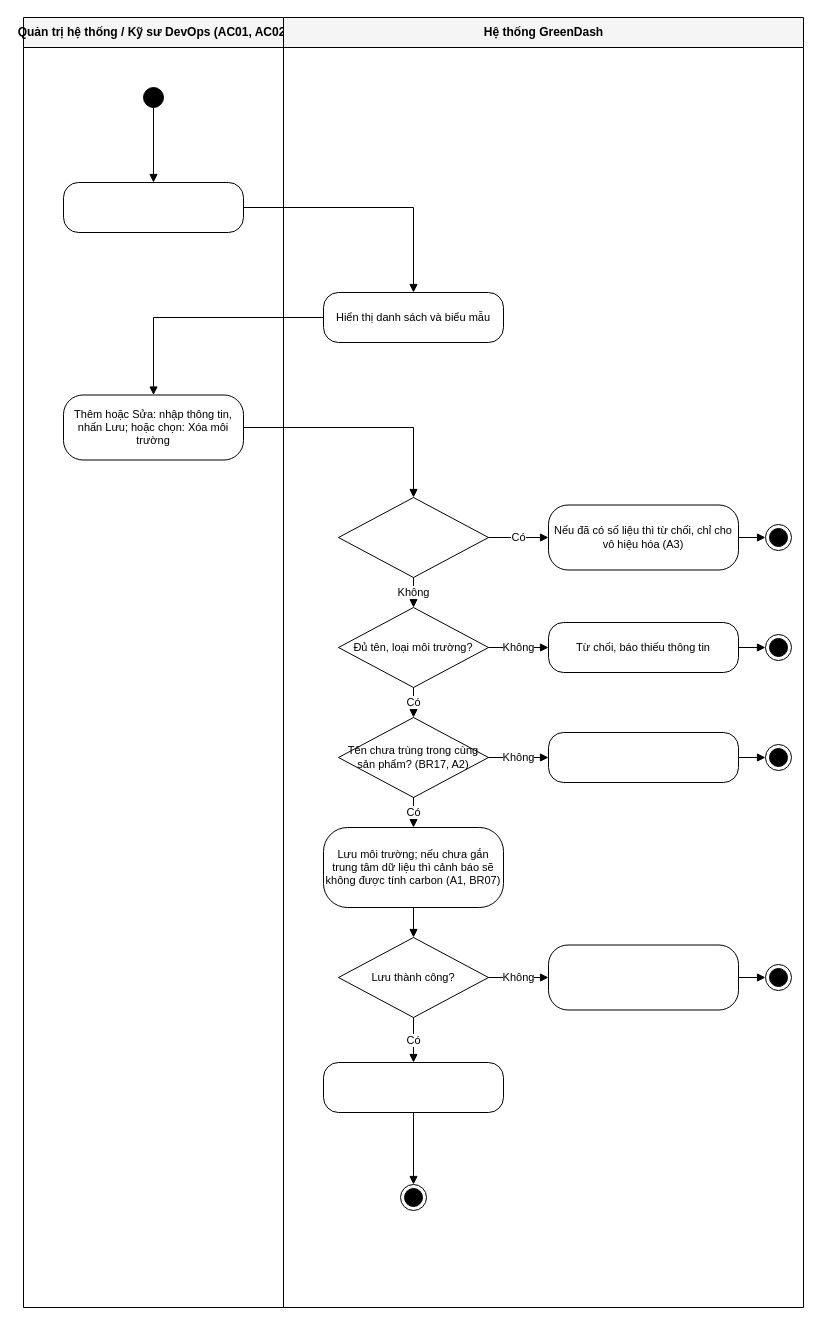
The diagram is 821 pixels wide and 1325 high, and some of its shapes have lost their labels. The shapes that lost their labels are listed below. From the top down, each one's centre as x and y in pixels, then its label:
[153,207]: Mở màn hình Môi trường, chọn thao tác
[413,537]: Thao tác là: Xóa môi trường?
[643,757]: Từ chối: trùng tên môi trường
[643,977]: Rollback, giữ nguyên dữ liệu đã nhập trên biểu mẫu (E1)
[413,1087]: Thông báo thành công, cập nhật danh sách
